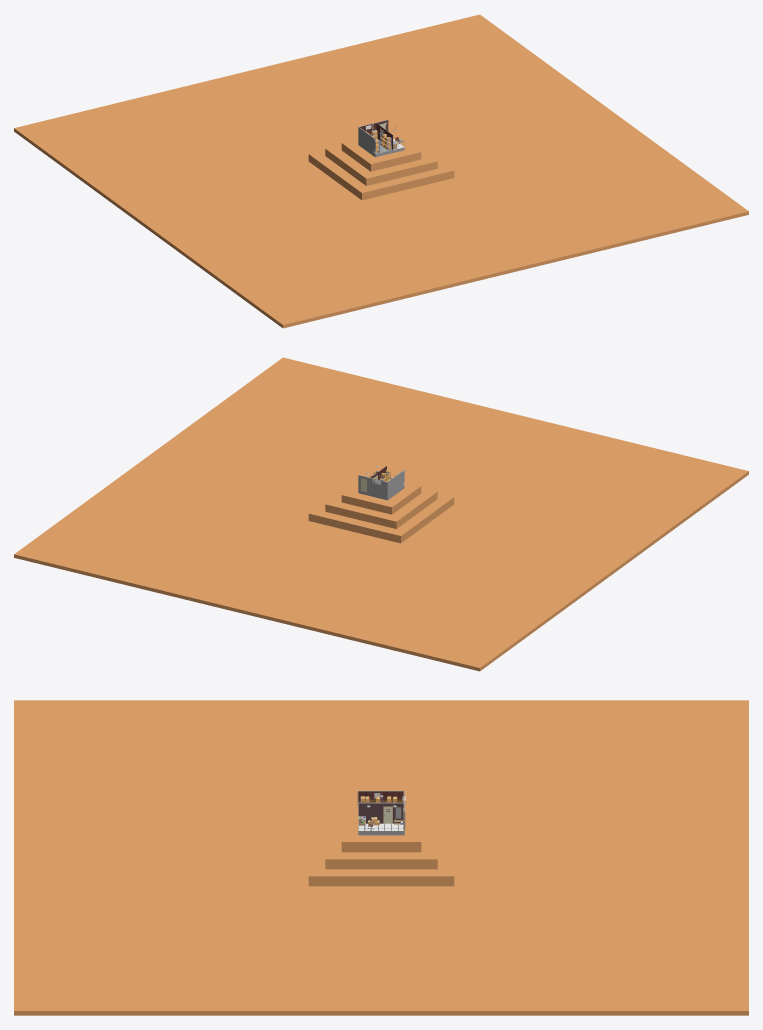
Rendered from room_1.fbx.
3 views of the same model, one above another, from view 1: azimuth 30°, elevation 25°; view 2: azimuth 150°, elevation 25°; view 3: azimuth 270°, elevation 25° (orthographic). The views are drawn at different scales.
Visible parts, largest first — view 1: Куб.029; view 2: Куб.029; view 3: Куб.029, Плоскость.003.
Boxes of the visible parts, x1,y1,x2,y2 form: Куб.029: [14, 14, 748, 328]; Куб.029: [14, 357, 748, 671]; Куб.029: [14, 700, 748, 1015]; Плоскость.003: [359, 803, 403, 823].
Bounding box in the file's own units: 15778 × 1575 × 15778.
